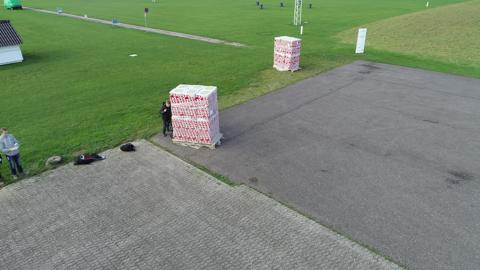RockwoolPallet: (171, 82, 222, 146)
